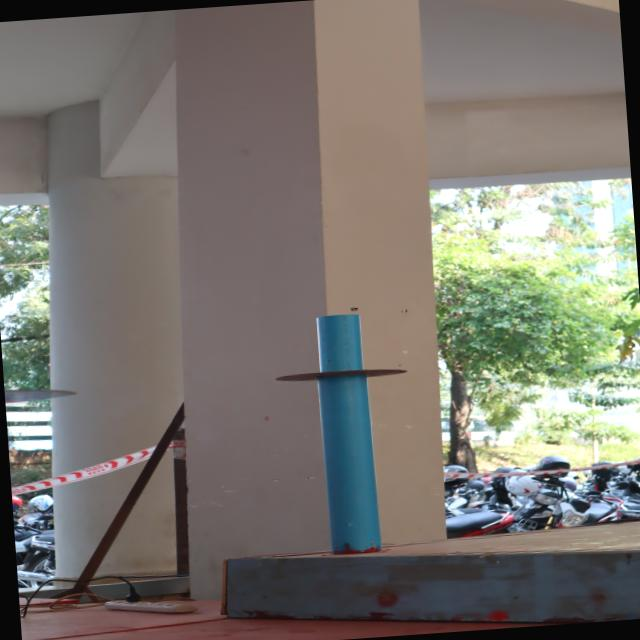pole: (274, 304, 408, 448)
